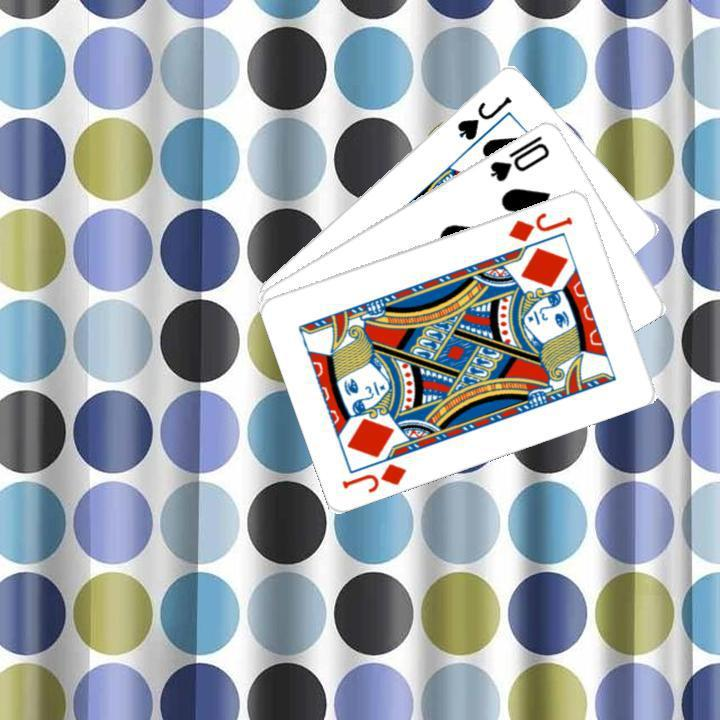10: (485, 130, 552, 184)
J: (452, 91, 514, 142), (504, 207, 575, 244), (338, 458, 409, 495)
